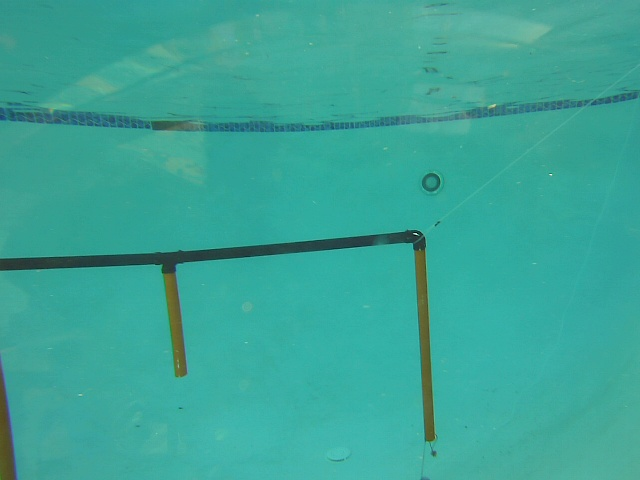Gate: (411, 240, 438, 448), (159, 263, 190, 382)
